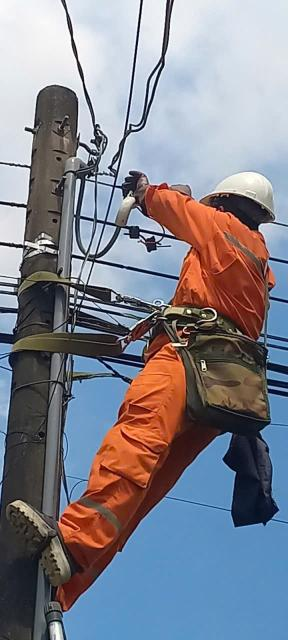gloves: (111, 164, 169, 223)
harness: (130, 284, 270, 364)
helmet: (182, 167, 288, 242)
shoes: (0, 479, 85, 587)
